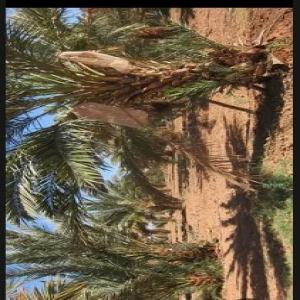palm tree: (5, 7, 292, 299)
